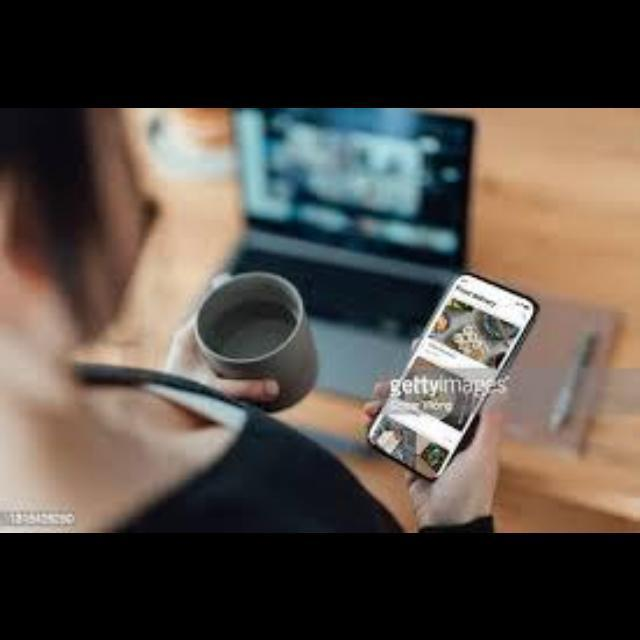PhoneUse: (365, 272, 537, 482)
